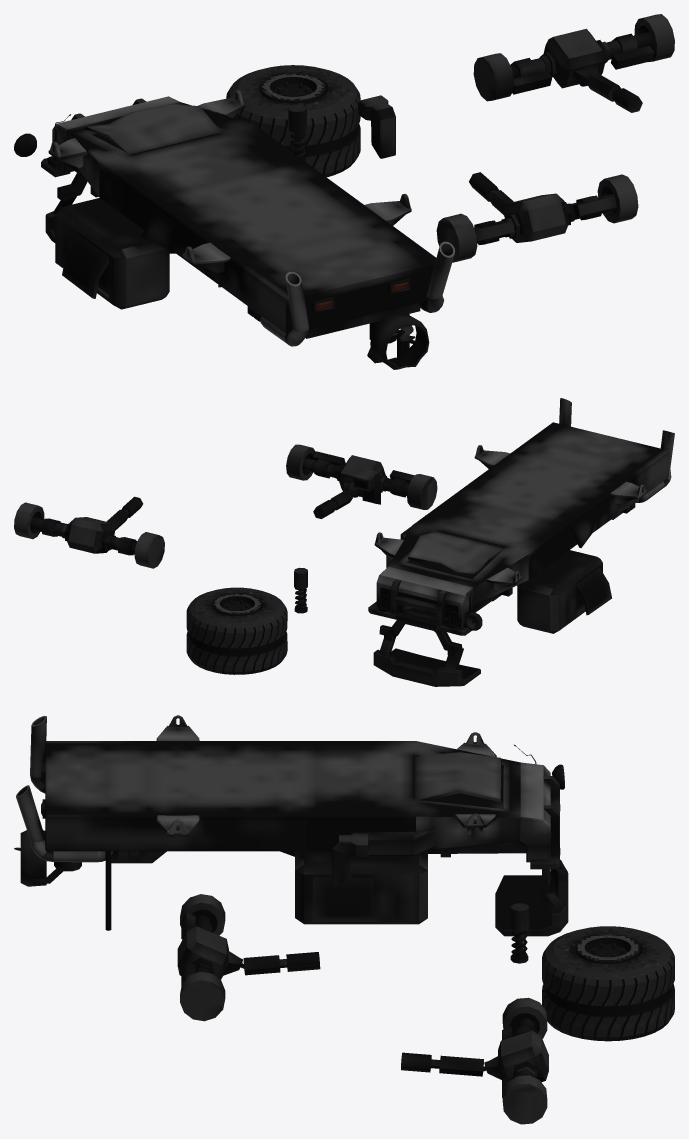
The model's file is largecar_broken.fbx.
3 renders of one model, top to bottom at view 1: azimuth 30°, elevation 25°; view 2: azimuth 150°, elevation 25°; view 3: azimuth 270°, elevation 25°, orthographic. The views are drawn at different scales.
Visible parts, largest first — view 1: largecar_broken_body, largecar_broken_tyre, largecar_broken_sidebox_left, largecar_broken_axle_front, largecar_broken_axle_mid, largecar_broken_propellerbase, largecar_broken_snorkel, largecar_broken_bumper; view 2: largecar_broken_body, largecar_broken_tyre, largecar_broken_sidebox_left, largecar_broken_axle_front, largecar_broken_axle_mid, largecar_broken_bumper, largecar_broken_bullbar, largecar_broken_snorkel; view 3: largecar_broken_body, largecar_broken_tyre, largecar_broken_sidebox_right, largecar_broken_axle_front, largecar_broken_axle_mid, largecar_broken_bumper, largecar_broken_propellerbase, largecar_broken_snorkel, largecar_broken_bullbar.
Part boxes in pixels (x1,y1,x2,y2): largecar_broken_body: [48, 90, 455, 346]; largecar_broken_tyre: [226, 65, 360, 177]; largecar_broken_sidebox_left: [55, 198, 169, 309]; largecar_broken_axle_front: [473, 14, 674, 112]; largecar_broken_axle_mid: [436, 172, 638, 262]; largecar_broken_propellerbase: [367, 312, 429, 369]; largecar_broken_snorkel: [358, 95, 395, 158]; largecar_broken_bumper: [45, 173, 87, 242]; largecar_broken_body: [374, 398, 674, 627]; largecar_broken_tyre: [186, 587, 287, 674]; largecar_broken_sidebox_left: [517, 550, 611, 633]; largecar_broken_axle_front: [14, 496, 164, 568]; largecar_broken_axle_mid: [286, 444, 437, 518]; largecar_broken_bumper: [373, 620, 480, 686]; largecar_broken_bullbar: [368, 579, 471, 635]; largecar_broken_snorkel: [353, 469, 380, 504]; largecar_broken_body: [16, 715, 550, 863]; largecar_broken_tyre: [542, 926, 674, 1041]; largecar_broken_sidebox_right: [295, 850, 427, 924]; largecar_broken_axle_front: [401, 997, 548, 1124]; largecar_broken_axle_mid: [177, 894, 320, 1021]; largecar_broken_bumper: [495, 859, 568, 936]; largecar_broken_propellerbase: [20, 830, 81, 886]; largecar_broken_snorkel: [332, 833, 368, 887]; largecar_broken_bullbar: [530, 775, 560, 869].
Size of the model in its own units: 662 by 159 by 564.
Materials: 2 (2 with a texture image).
